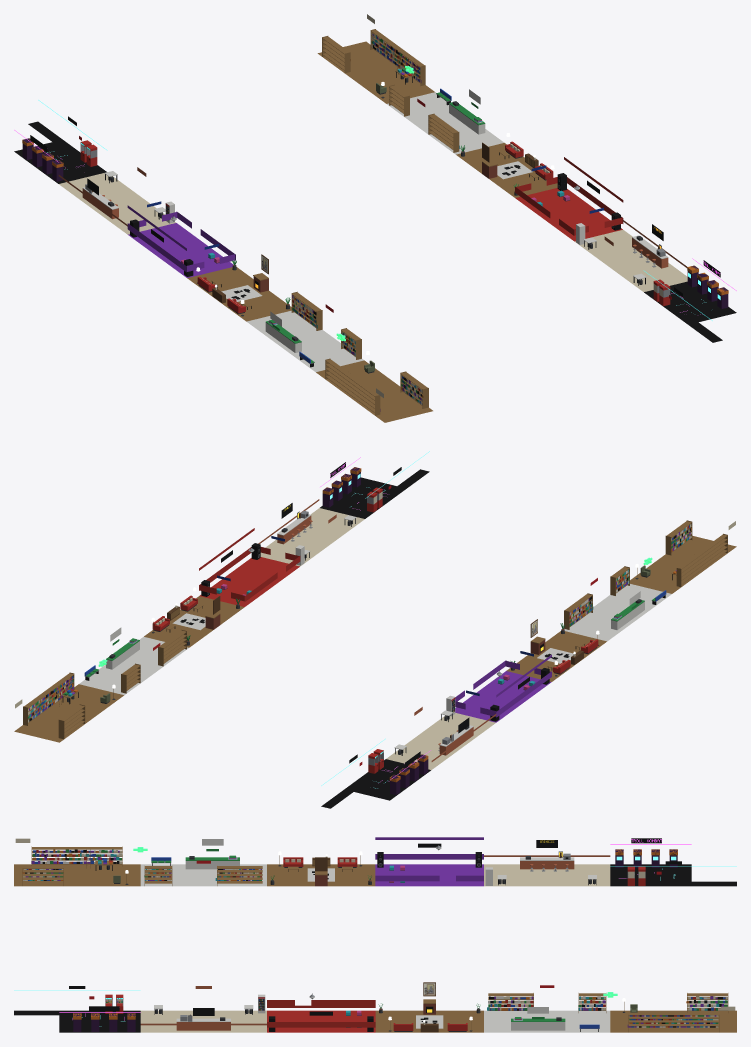
The model's file is ug-shops.glb.
3 views of the same model, one above another, from view 1: azimuth 30°, elevation 25°; view 2: azimuth 150°, elevation 25°; view 3: azimuth 270°, elevation 25° (orthographic). The views are drawn at different scales.
Visible parts, largest first — view 1: ug-shops; view 2: ug-shops; view 3: ug-shops.
Boxes of the visible parts, x1=… form: ug-shops: x1=14, y1=14, x2=736, y2=422; ug-shops: x1=14, y1=451, x2=736, y2=808; ug-shops: x1=14, y1=837, x2=736, y2=1032.
Size of the model in its own units: 44 by 3.6 by 80.
10 materials, 2 textured.
